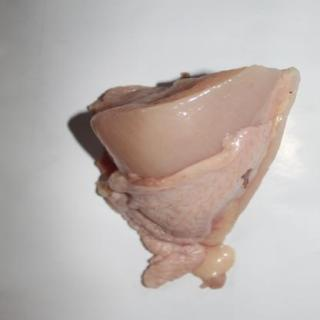Ayam: (90, 67, 297, 290)
